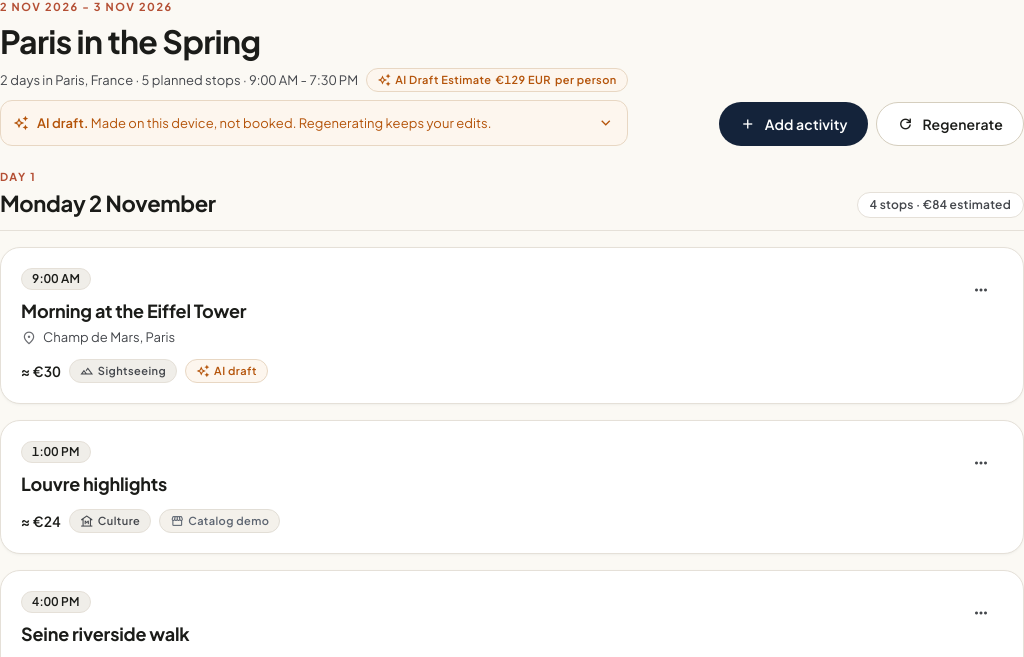
Scenario: ItineraryPage › adding an activity by hand › opens on the first day at the next free slot
Expected: the heading "Paris in the Spring" is shown, 0,21 -> 261,61
Click the button "Add activity".
click(793, 124)  # box 719,102 -> 868,146
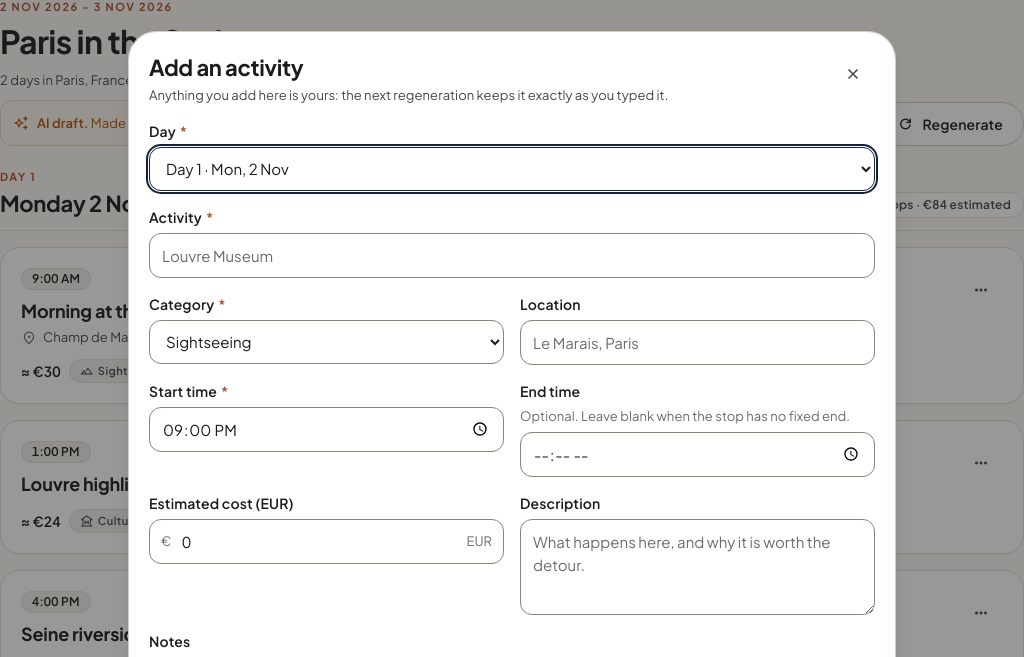
Now the heading "Add an activity" is shown, box 149,53 -> 303,81
Now the text "Anything you add here is yours: the next regeneration keeps it exactly as you typed it." is shown, box 149,87 -> 668,103
Now the dropdown labelled "Day*" shows "Day 1 · Mon, 2 Nov", box 149,147 -> 875,191
